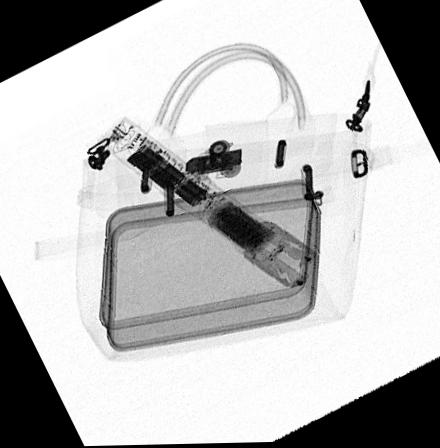Baton: (102, 115, 312, 290)
